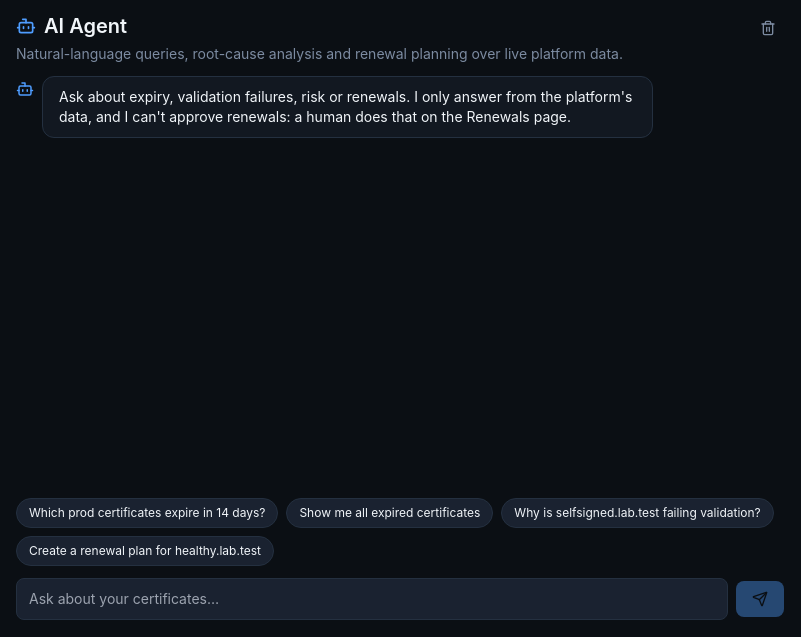
Scenario: AgentChat › sends the question and shows the answer with the tools that were used
The image size is (801, 637).
Type "Which prod certs expire in 14 days?" into the field named "Message" at (372, 599), box [16,578,728,620]
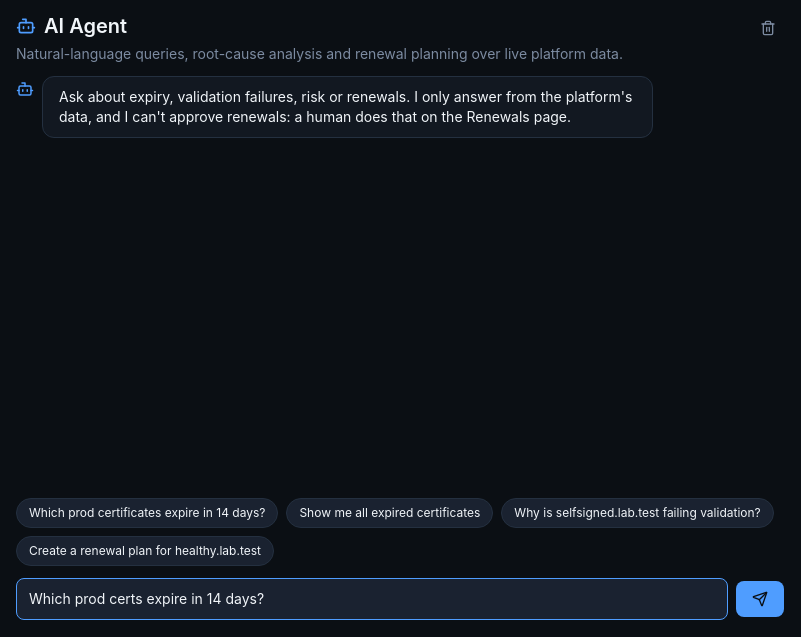
Click the button named "Send" at (760, 599), box [736,581,784,617]
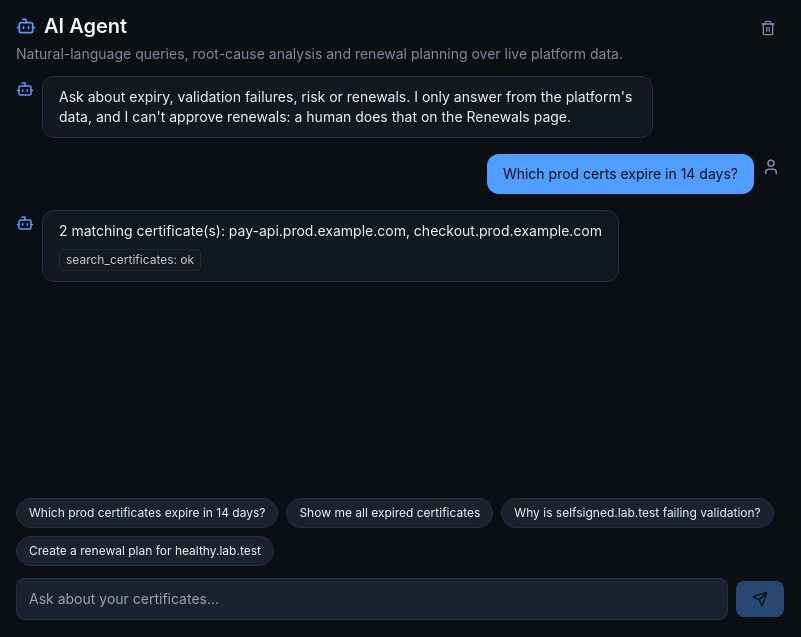
Now the text "2 matching certificate" is shown, box [59,222,602,239]
Now the element named "Tools used" reads "search_certificates: ok", box [59,249,201,271]
